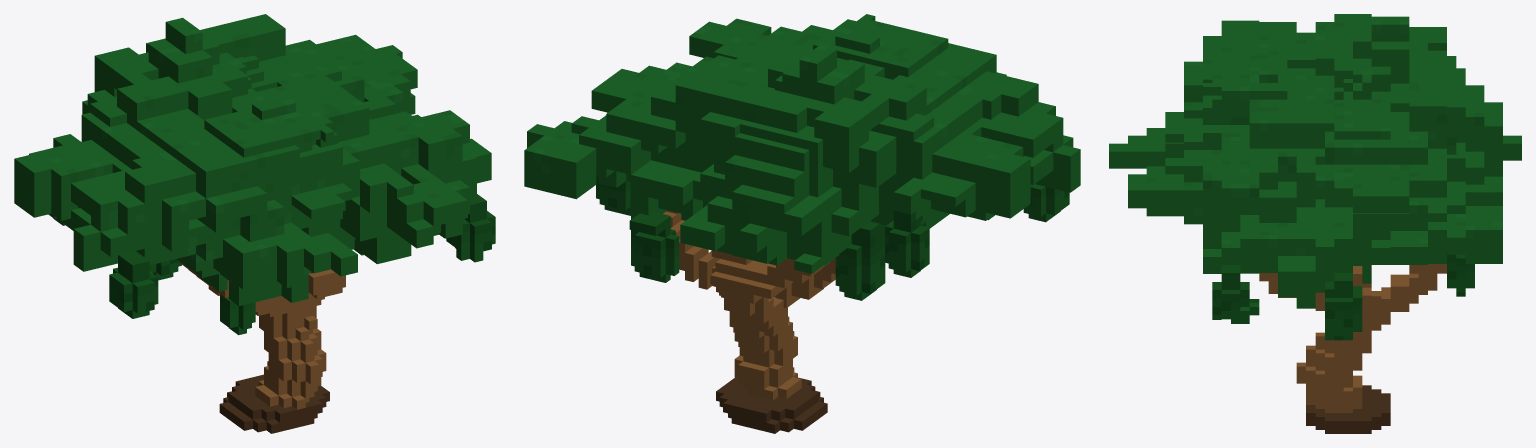
File: 2_0 gravi.obj
The picture shows the model from 3 angles, left to right: view 1: azimuth 30°, elevation 25°; view 2: azimuth 150°, elevation 25°; view 3: azimuth 270°, elevation 25°; orthographic projection. The views are drawn at different scales.
Size of the model in its own units: 5 by 4.3 by 4.4.
1 material, 1 textured.
